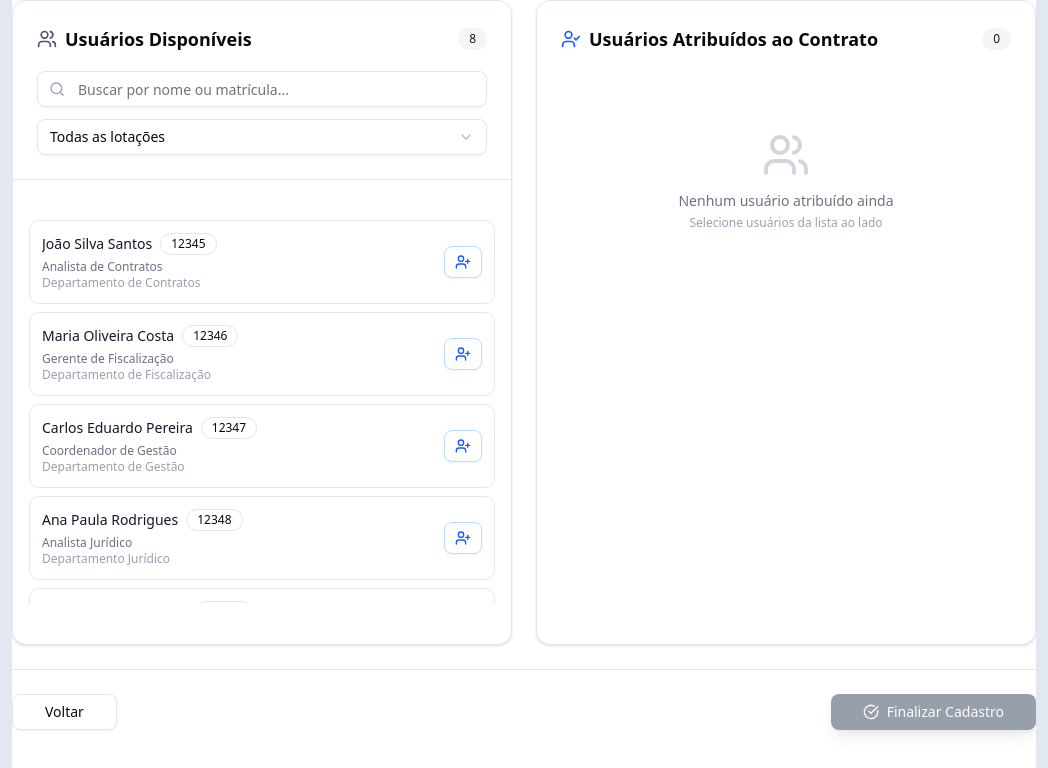
Test case: AtribuicaoFiscaisForm › Atribuição de usuários › deve remover usuário da lista de disponíveis após atribuição
Click the button named "atribuir joão silva santos" at (463, 262), box [444,246,482,278]
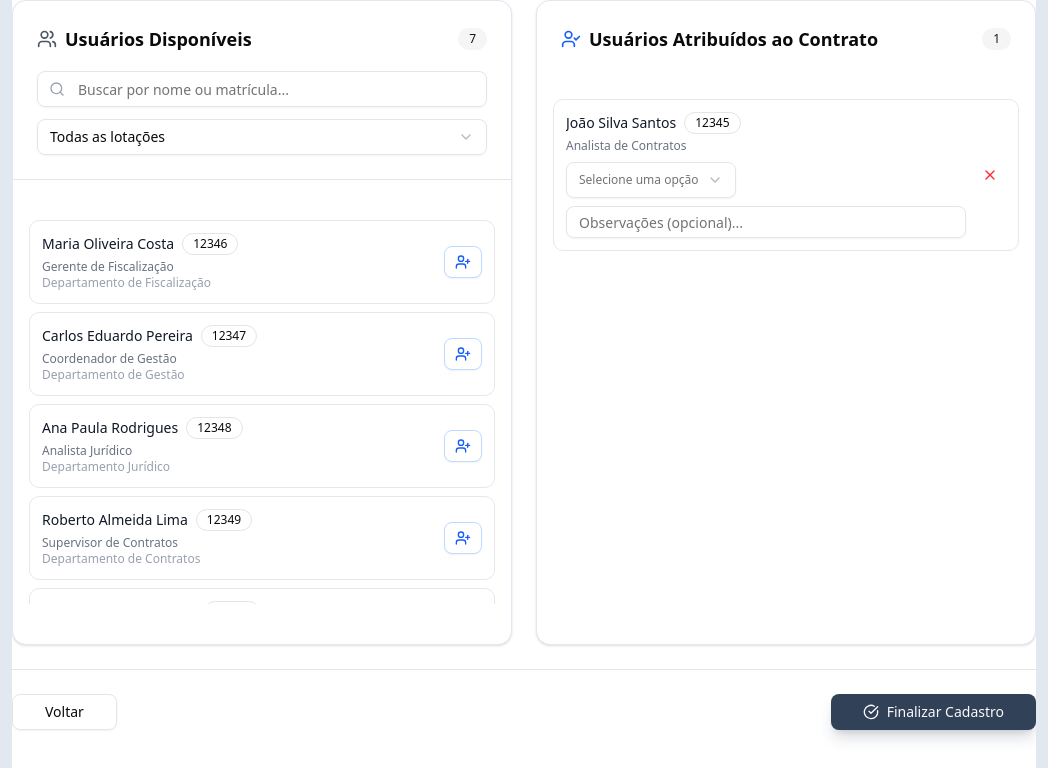
Check: the text "João Silva Santos" is shown once, box [566,113,676,133]
